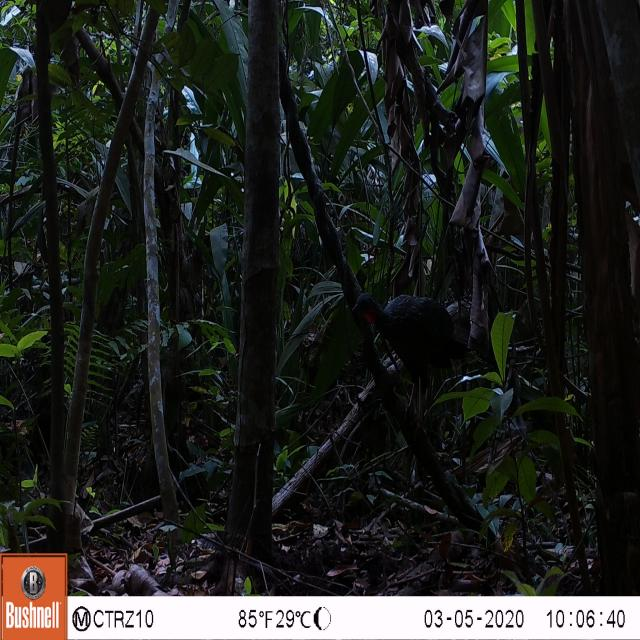Spixs Guan: (350, 281, 482, 421)
